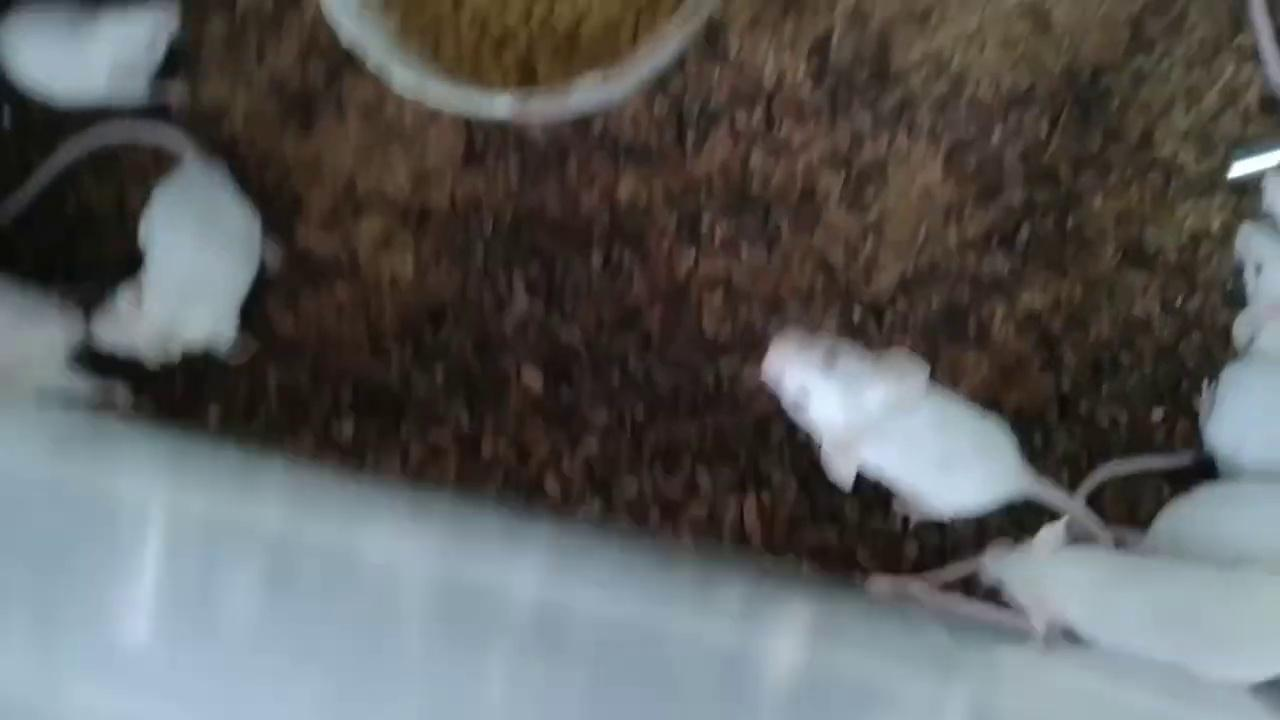rat: (760, 325, 1110, 538), (0, 120, 264, 368), (982, 515, 1280, 685), (1196, 220, 1280, 479), (0, 0, 182, 109)
